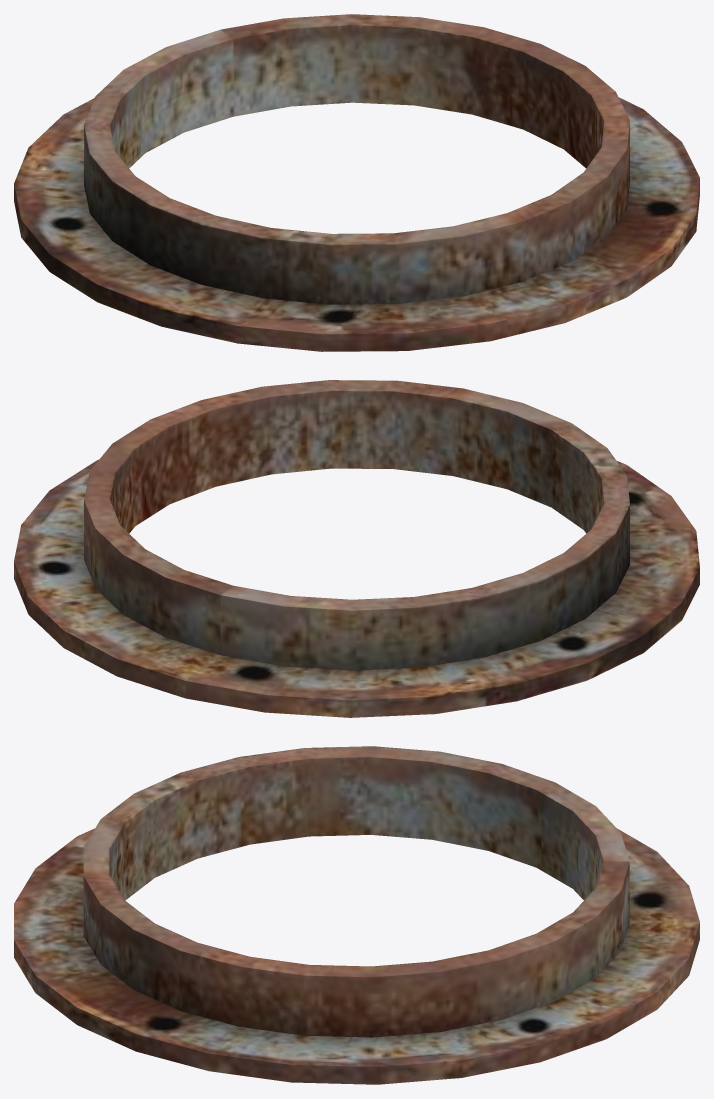
The model's file is Caño_tres.glb.
The picture shows the model from 3 angles, top to bottom: view 1: azimuth 30°, elevation 25°; view 2: azimuth 150°, elevation 25°; view 3: azimuth 270°, elevation 25°; orthographic projection.
Parts seen in each view (by area): view 1: 3; view 2: 3; view 3: 3.
Part boxes in pixels (x1,y1,x2,y2): 3: [14, 14, 699, 351]; 3: [14, 380, 699, 717]; 3: [14, 746, 699, 1084].
Size of the model in its own units: 0.8496 by 0.106 by 0.8479.
Materials: 1 (1 with a texture image).
